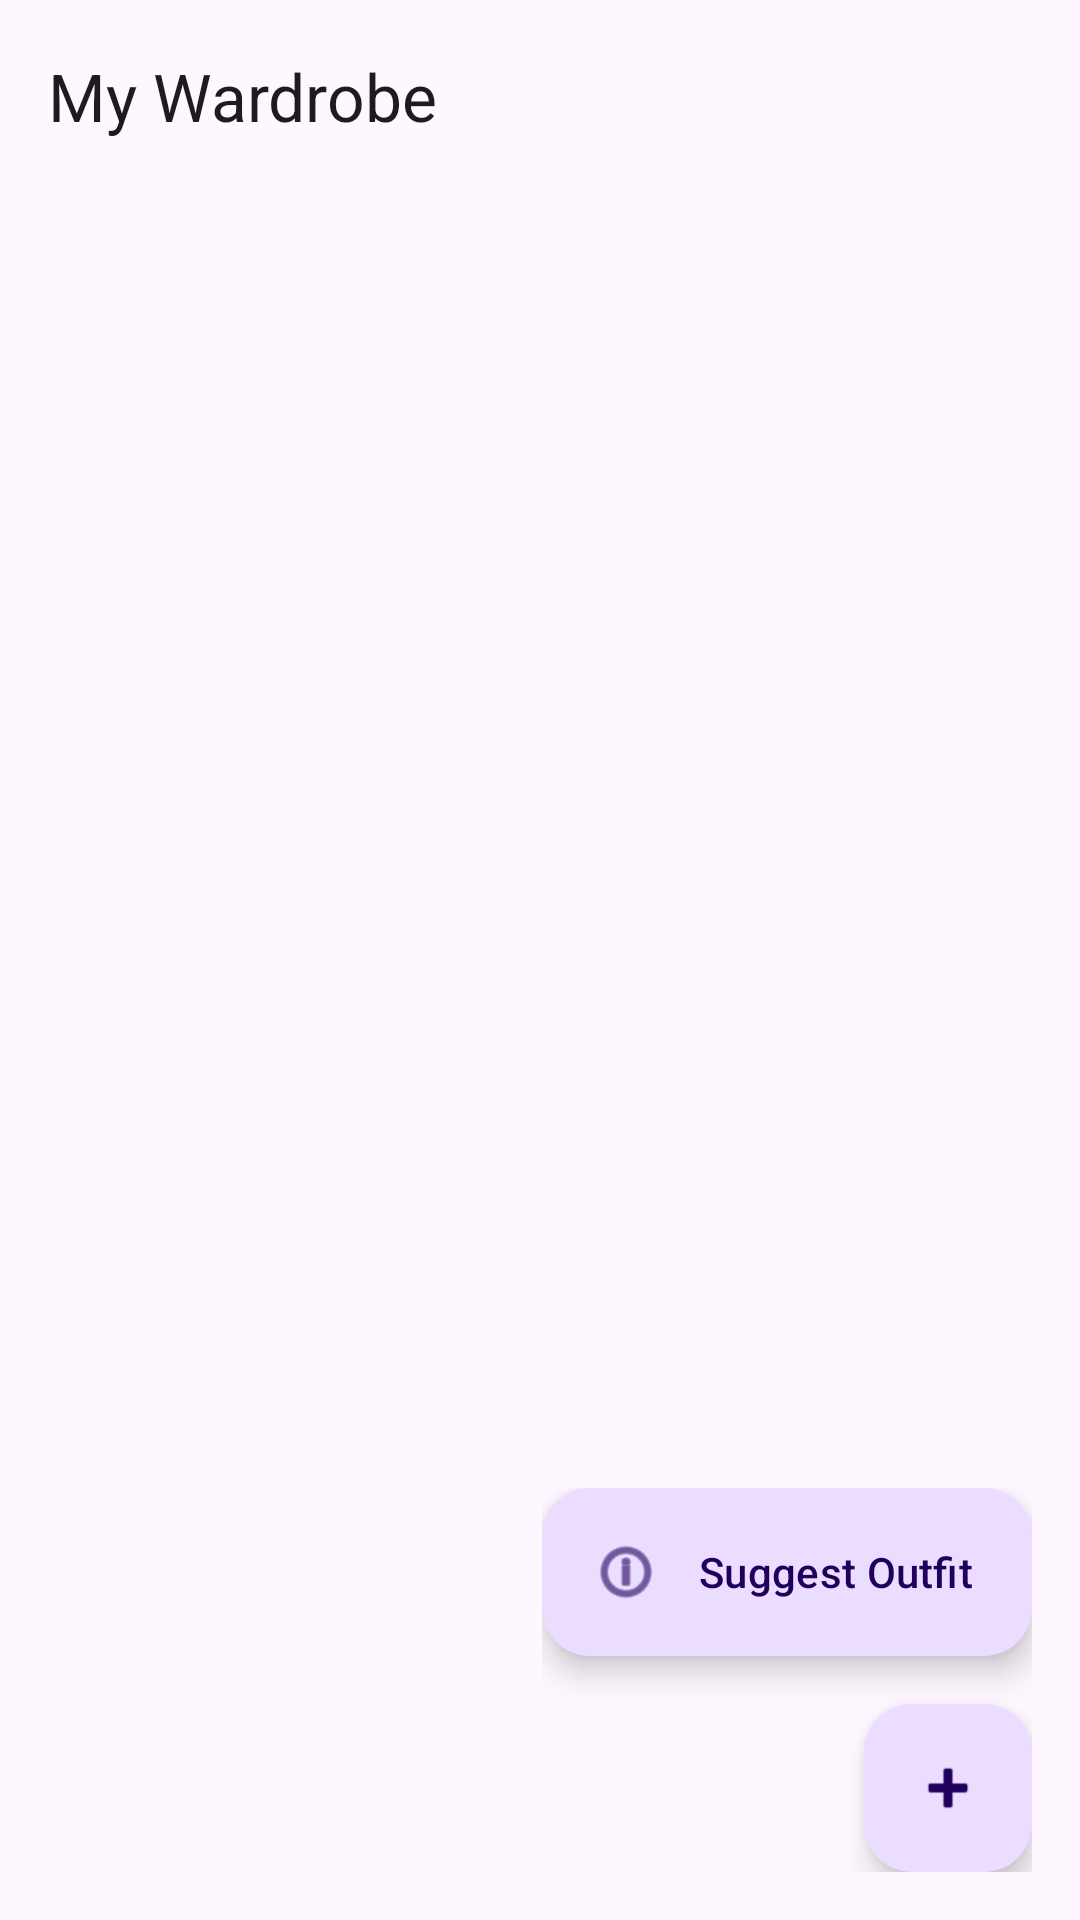

Icons on this 1080 x 1920 Android screen, each with its box as [left=x1, top=y1, right=x2, bottom=y2]:
Add clothing: [left=864, top=1704, right=1032, bottom=1872]
